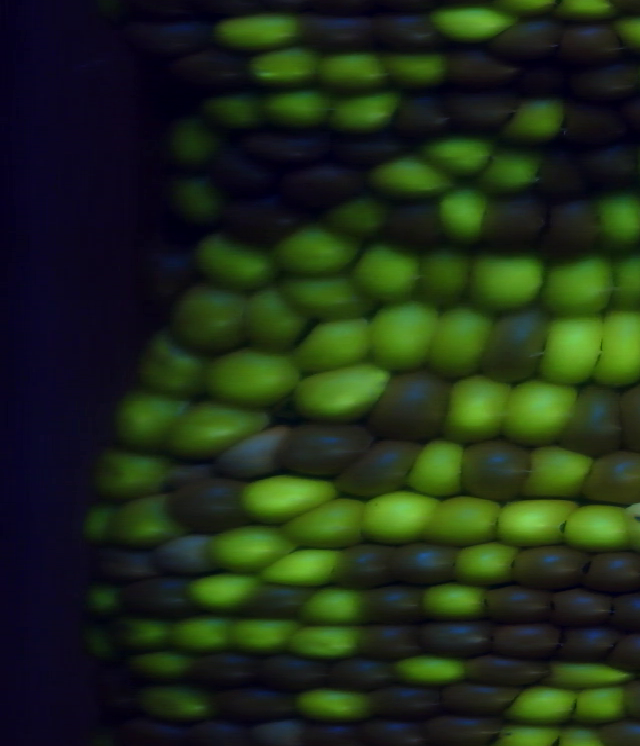fluorescent: (288, 364, 388, 422), (168, 400, 268, 457), (133, 332, 206, 402), (502, 379, 574, 446), (374, 297, 435, 375), (542, 313, 605, 388), (206, 350, 292, 404), (273, 222, 356, 276), (443, 376, 504, 449), (296, 314, 375, 370), (171, 286, 239, 349), (361, 488, 433, 547), (242, 476, 334, 522), (197, 235, 278, 287), (466, 255, 544, 308), (433, 308, 492, 377), (288, 497, 364, 550), (497, 494, 574, 546), (114, 389, 177, 452), (238, 289, 305, 348), (207, 526, 290, 573), (426, 496, 501, 547), (353, 244, 418, 302), (547, 257, 615, 312), (523, 446, 592, 500), (108, 492, 175, 545), (94, 446, 162, 498), (278, 277, 366, 317), (597, 309, 640, 390), (408, 440, 466, 498), (370, 156, 450, 197), (258, 546, 337, 587), (564, 503, 629, 551), (327, 92, 396, 135), (452, 542, 516, 587), (218, 13, 302, 47), (438, 185, 486, 242), (313, 52, 387, 88), (510, 687, 574, 728), (417, 252, 467, 304), (545, 662, 636, 690), (600, 192, 640, 253), (439, 9, 512, 42), (263, 91, 332, 125), (430, 138, 492, 175), (296, 687, 363, 721), (253, 48, 316, 84), (483, 154, 541, 193), (139, 683, 203, 718), (191, 575, 253, 611), (509, 99, 562, 139), (225, 617, 290, 649), (293, 624, 356, 657), (302, 589, 363, 623), (398, 652, 462, 684), (386, 52, 448, 85), (424, 584, 482, 619), (172, 117, 217, 162), (329, 198, 382, 234), (169, 617, 222, 652), (209, 94, 264, 127), (574, 686, 623, 723), (181, 174, 219, 221), (83, 503, 123, 543), (109, 622, 166, 649), (609, 257, 640, 306), (126, 648, 184, 674), (85, 619, 113, 658), (90, 586, 117, 613)
nonfluorescent: (369, 366, 446, 440), (483, 311, 553, 382), (336, 439, 418, 495), (281, 423, 369, 475), (167, 483, 244, 538), (563, 388, 624, 456), (458, 441, 528, 497), (220, 200, 301, 247), (215, 430, 284, 485), (237, 126, 326, 167), (480, 193, 547, 246), (281, 167, 356, 214), (545, 197, 605, 255), (123, 577, 201, 620), (513, 543, 587, 588), (211, 152, 272, 206), (210, 687, 295, 725), (383, 202, 446, 252), (583, 452, 640, 503), (563, 62, 637, 101), (182, 47, 247, 91), (496, 20, 558, 66), (538, 145, 588, 202), (558, 22, 617, 70), (357, 584, 427, 624), (451, 47, 516, 89), (335, 546, 401, 587), (258, 654, 328, 692), (558, 104, 619, 147), (462, 655, 541, 688), (550, 584, 612, 626), (493, 617, 558, 657), (453, 88, 513, 131), (395, 545, 459, 585), (301, 13, 370, 50), (590, 140, 640, 190), (587, 547, 640, 594), (327, 654, 394, 691), (325, 132, 394, 167), (487, 586, 554, 622), (425, 712, 495, 746), (423, 622, 491, 657), (238, 584, 302, 621), (152, 536, 208, 578), (365, 13, 434, 47), (186, 652, 251, 688), (442, 683, 515, 715), (369, 686, 442, 717), (355, 624, 423, 657), (394, 92, 449, 131), (558, 626, 615, 660), (95, 542, 150, 577), (147, 19, 209, 46), (610, 627, 640, 673)
